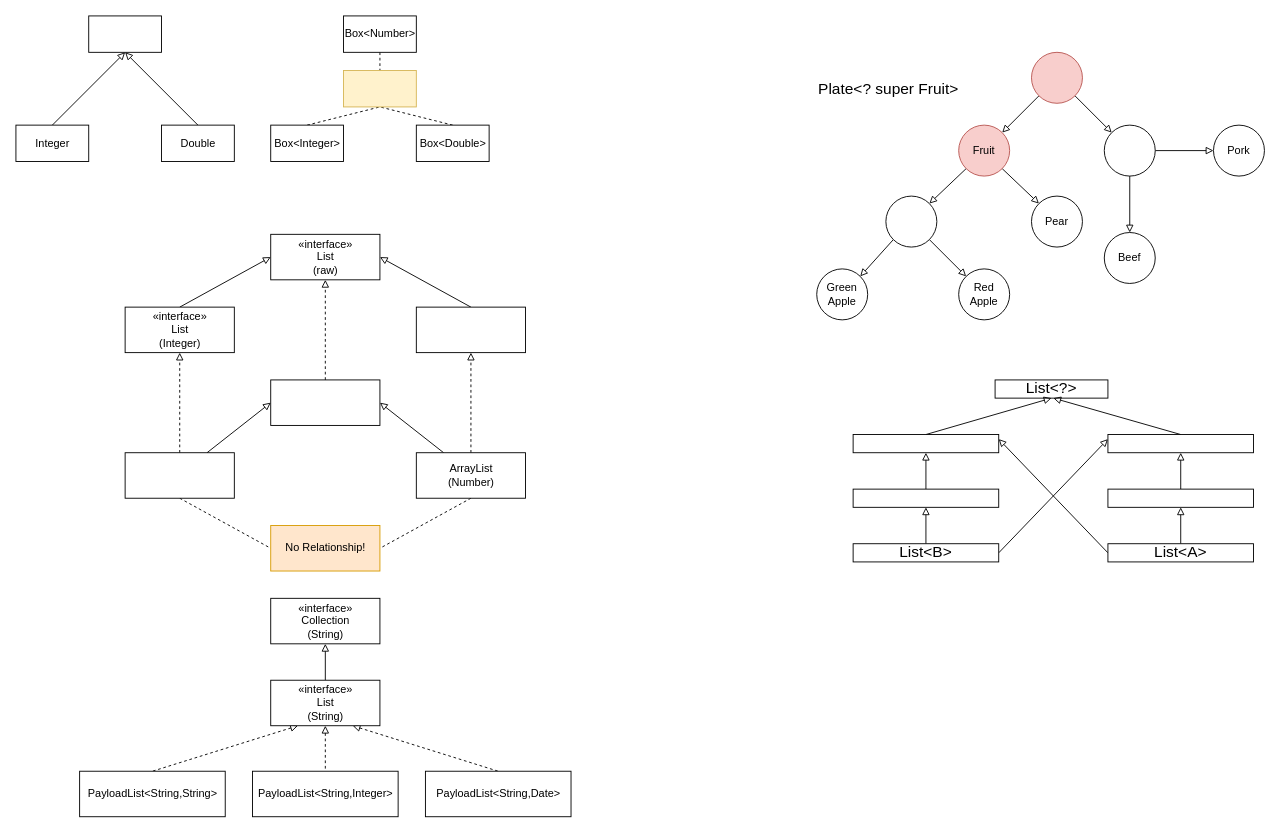
Some shapes in this 1280 by 833 pixel diagram are drawn without their labels. Each missing label, with the box of its shape:
Apple: (885, 195, 937, 247)
ArrayList (Integer): (124, 452, 234, 498)
ArrayList (raw): (270, 379, 380, 425)
Food: (1031, 51, 1082, 103)
List<? extends A>: (852, 434, 999, 453)
List<? extends B>: (852, 488, 999, 507)
List<? super A>: (1107, 488, 1254, 507)
List<? super B>: (1107, 434, 1254, 453)
Meat: (1103, 124, 1155, 176)
No Relationship: (343, 70, 416, 107)
Number: (88, 15, 162, 52)
«interface» List (Number): (415, 306, 526, 353)
